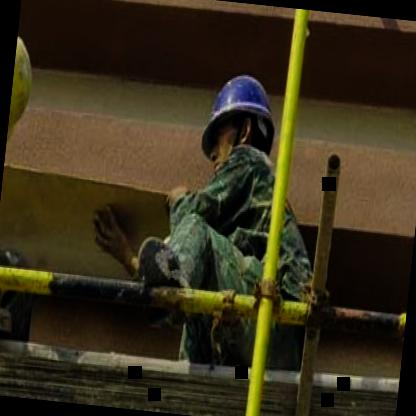helmet: (189, 57, 286, 192)
